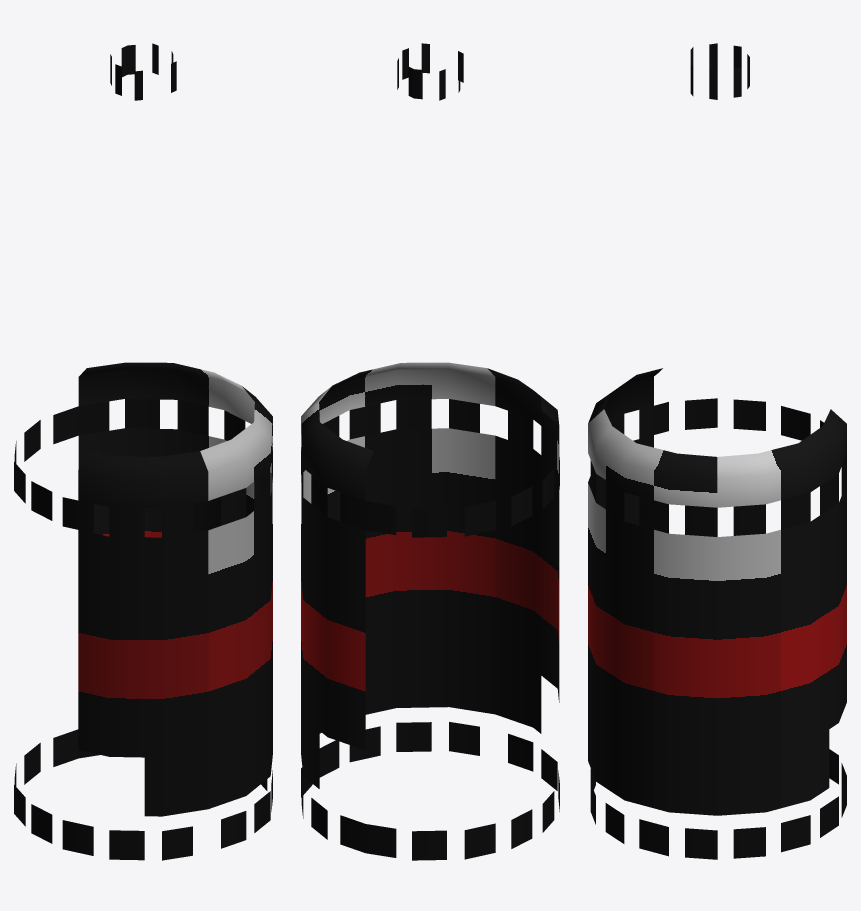
File: nuke_n2.obj
3 views of the same model, side by side, from view 1: azimuth 30°, elevation 25°; view 2: azimuth 150°, elevation 25°; view 3: azimuth 270°, elevation 25° (orthographic).
Parts seen in each view (by area): view 1: Cylinder, CylinderGlow, MineTriggerGlow; view 2: Cylinder, CylinderGlow, MineTriggerGlow; view 3: Cylinder, CylinderGlow, MineTriggerGlow.
Boxes of the visible parts, box(x1,y1,x2,y2) form: Cylinder: box(78, 362, 272, 816); CylinderGlow: box(14, 399, 272, 860); MineTriggerGlow: box(110, 43, 176, 100); Cylinder: box(301, 362, 559, 788); CylinderGlow: box(301, 399, 559, 860); MineTriggerGlow: box(397, 43, 463, 100); Cylinder: box(588, 368, 846, 815); CylinderGlow: box(590, 398, 846, 859); MineTriggerGlow: box(690, 43, 749, 99).
Size of the model in its own units: 2 by 7 by 2.
